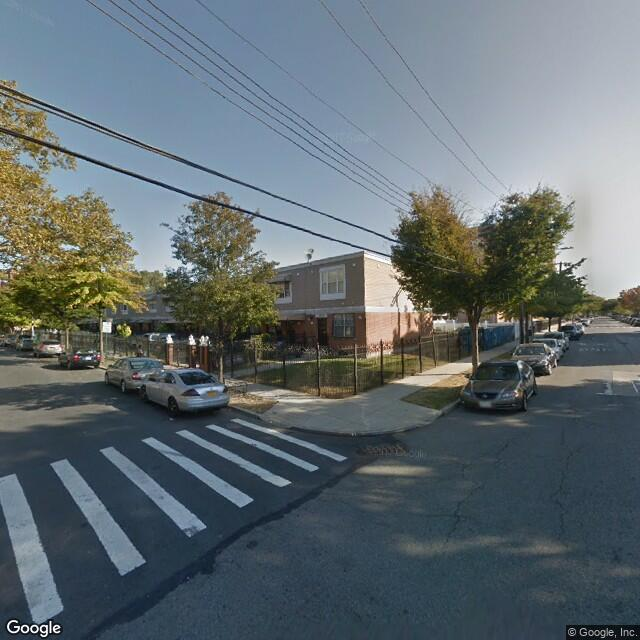litter: (352, 427, 357, 440)
